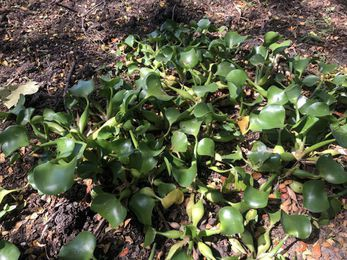water_hyacinth: (11, 23, 347, 260)
